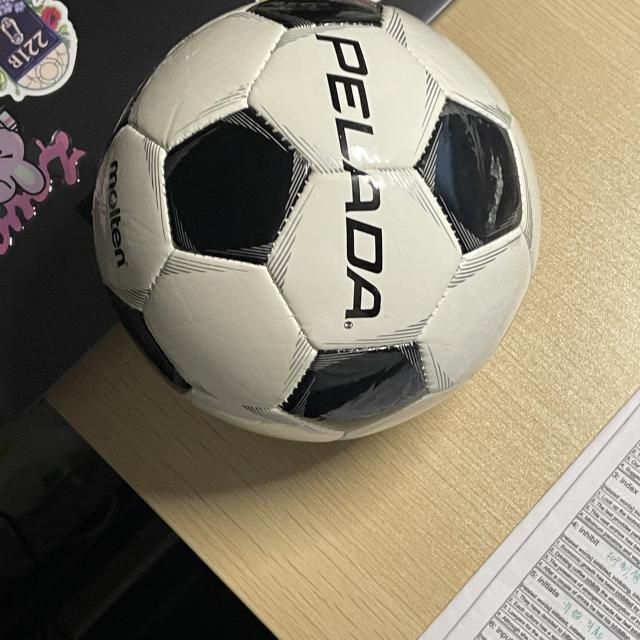ball: (93, 0, 540, 446)
